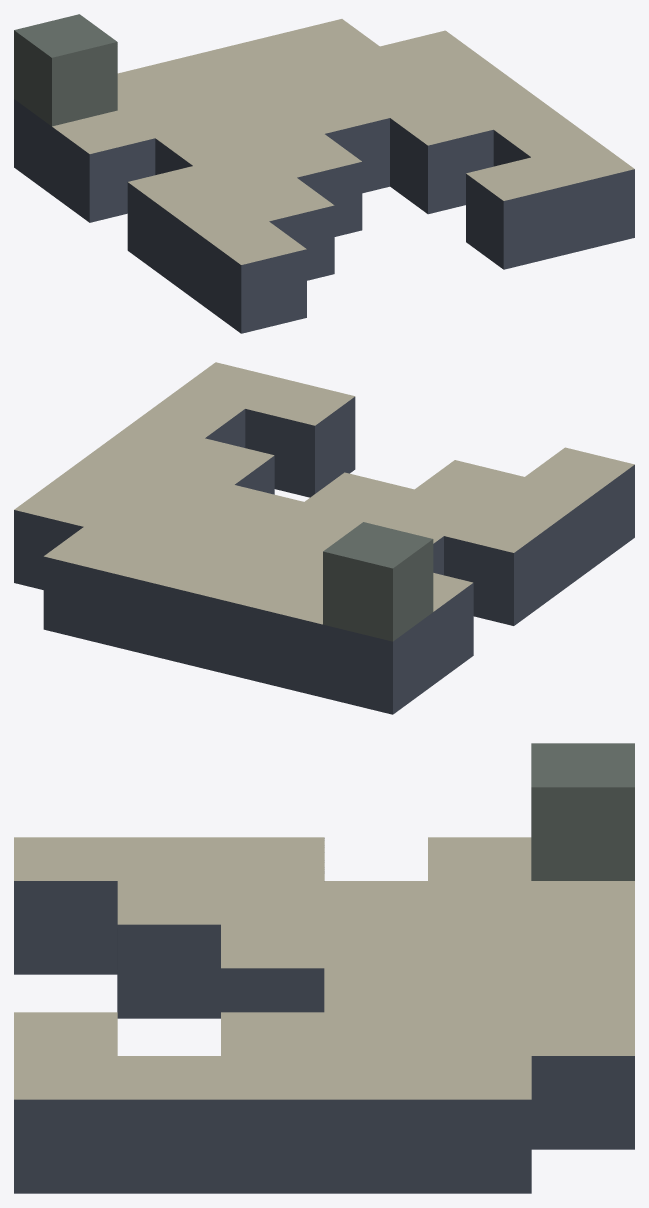
The picture shows the model from 3 angles, top to bottom: view 1: azimuth 30°, elevation 25°; view 2: azimuth 150°, elevation 25°; view 3: azimuth 270°, elevation 25°; orthographic projection. The views are drawn at different scales.
Visible parts, largest first — view 1: 3.1; view 2: 3.1; view 3: 3.1.
Boxes of the visible parts, left/top/right/bottom form: 3.1: left=14, top=14, right=634, bottom=333; 3.1: left=14, top=362, right=634, bottom=714; 3.1: left=14, top=743, right=634, bottom=1193.
Size of the model in its own units: 600 by 200 by 600.
